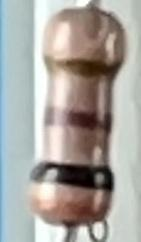Black: (27, 158, 118, 191)
Brown: (41, 103, 114, 136)
Orange: (27, 192, 112, 223)
Side-Gold: (39, 53, 126, 82)
